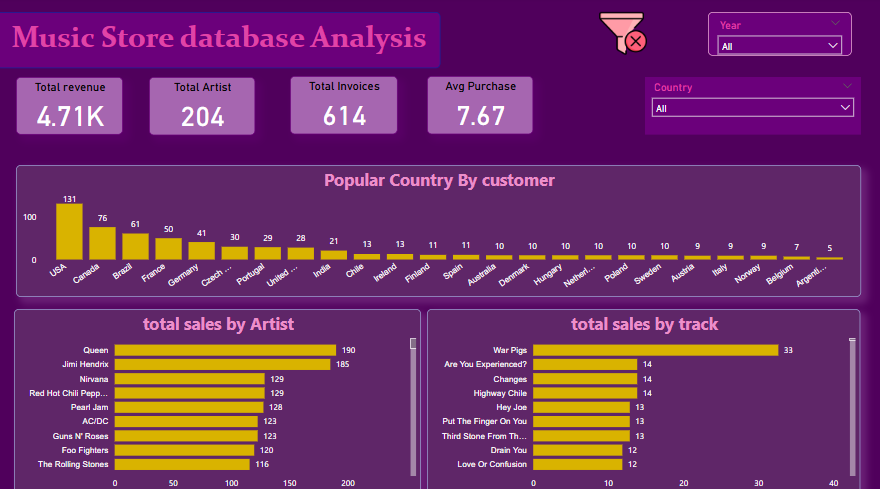

This screenshot's page, from the dashboard's own definition file:
{"tool":"powerbi","page":{"name":"Analysis","canvas":[1280,720],"ordinal":1},"visuals":[{"type":"slicer","fields":{"Values":["invoice.billing_country"]},"box":[933.9,115.9,311.3,82.8],"z":0},{"type":"card","title":"Total revenue","fields":{"Values":["invoice_line.total sales"]},"box":[28.2,115.9,154,82.8],"z":2000},{"type":"slicer","fields":{"Values":["invoice.invoice_date.Variation.Date Hierarchy.Year"]},"box":[1025,21.5,207,62.9],"z":3000},{"type":"textbox","box":[0,22,640,81.1],"z":4000},{"type":"card","title":"Total Artist","fields":{"Values":["Count(album2.artist_id)"]},"box":[219.9,115.1,152.9,84.2],"z":5000},{"type":"card","title":"Avg Purchase ","fields":{"Values":["invoice_line.Average purchase value"]},"box":[620.2,113.4,152.9,84.2],"z":6000},{"type":"clusteredBarChart","fields":{"Y":["invoice_line.total sales"],"Category":["artist.name"]},"box":[26.5,448.7,586.2,271.6],"z":7000},{"type":"clusteredBarChart","fields":{"Y":["invoice_line.total sales"],"Category":["track.name"]},"box":[621,448.7,624.3,271.6],"z":9001},{"type":"columnChart","title":"Popular Country By customer","fields":{"Category":["invoice.billing_country"],"Y":["CountNonNull(invoice.customer_id)"]},"box":[28.2,241.8,1217.1,190.4],"z":9002},{"type":"card","title":"Total Invoices","fields":{"Values":["invoice.Count Of Invoice"]},"box":[422.7,113.4,154.6,84.2],"z":9003},{"type":"image","box":[829.6,13.2,147.4,79.5],"z":9004}]}

Visuals, with their boxes in screenshot pixels (x1, y1, x2, y2), scaled from the page's 1280x720 canvas onto the 880x489 screenshot:
slicer - invoice.billing_country: detection(642, 79, 856, 135)
"Total revenue" card: detection(19, 79, 125, 135)
slicer - invoice.invoice_date.Variation.Date Hierarchy.Year: detection(705, 15, 847, 57)
textbox: detection(0, 15, 440, 70)
"Total Artist" card: detection(151, 78, 256, 135)
"Avg Purchase " card: detection(426, 77, 532, 134)
clusteredBarChart - invoice_line.total sales x artist.name: detection(18, 305, 421, 488)
clusteredBarChart - invoice_line.total sales x track.name: detection(427, 305, 856, 488)
"Popular Country By customer" columnChart: detection(19, 164, 856, 294)
"Total Invoices" card: detection(291, 77, 397, 134)
image: detection(570, 9, 672, 63)
